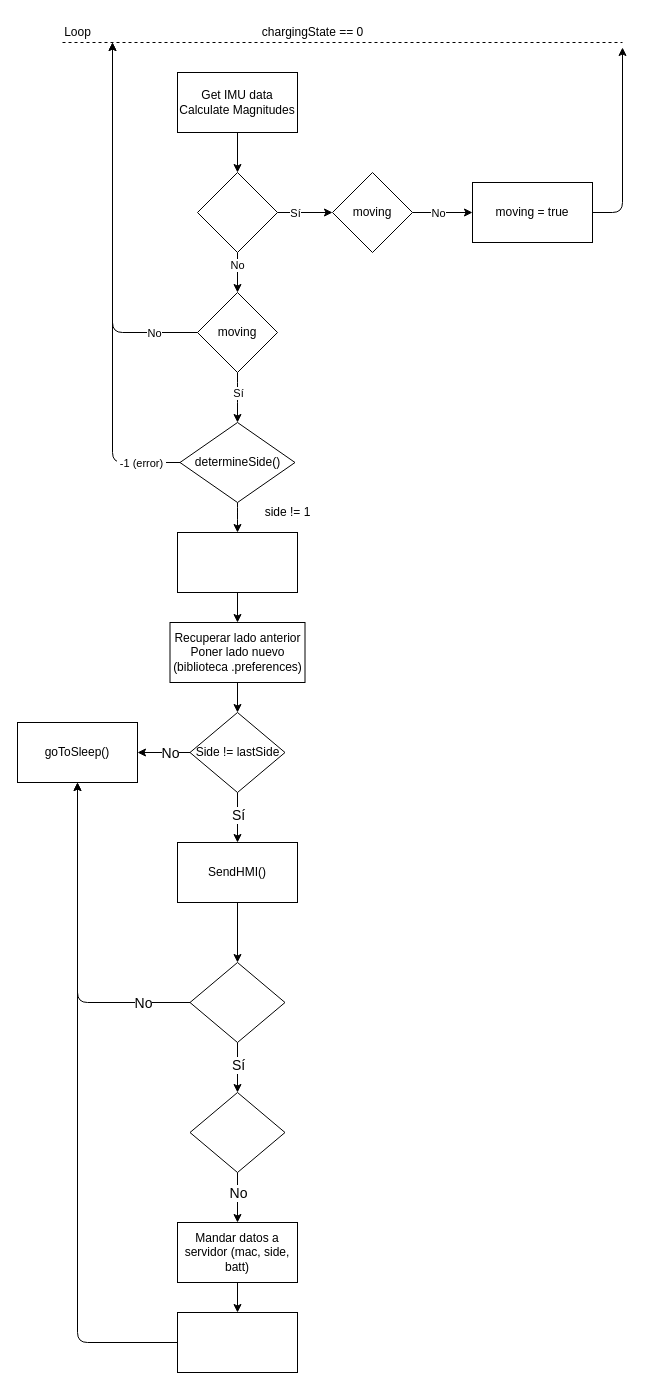
Some shapes in this 648 by 1390 pixel diagram are drawn without their labels. The centre of each missing label's shape, as x and y in pixels:
"connectWiFi()" belongs at (237,1002).
"demo" belongs at (237,1132).
"G>0.09" belongs at (237,212).
"moving = false" belongs at (237,562).
"Obtener hora" belongs at (237,1342).
